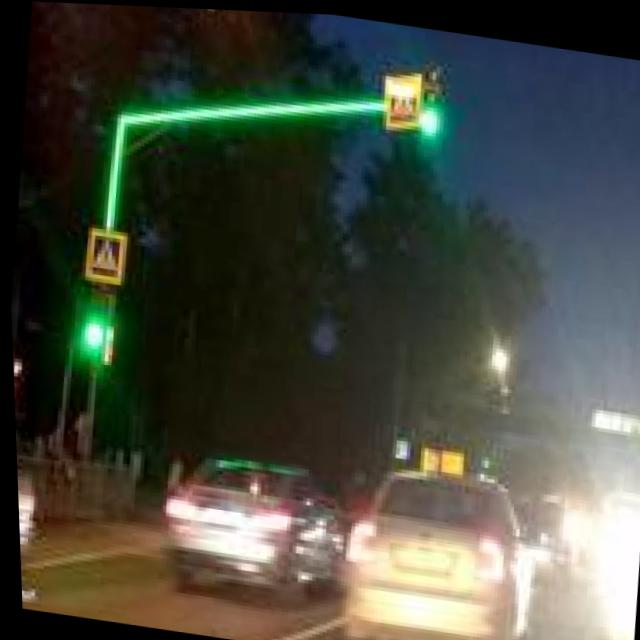green_light: (40, 299, 118, 370), (385, 89, 460, 144)
